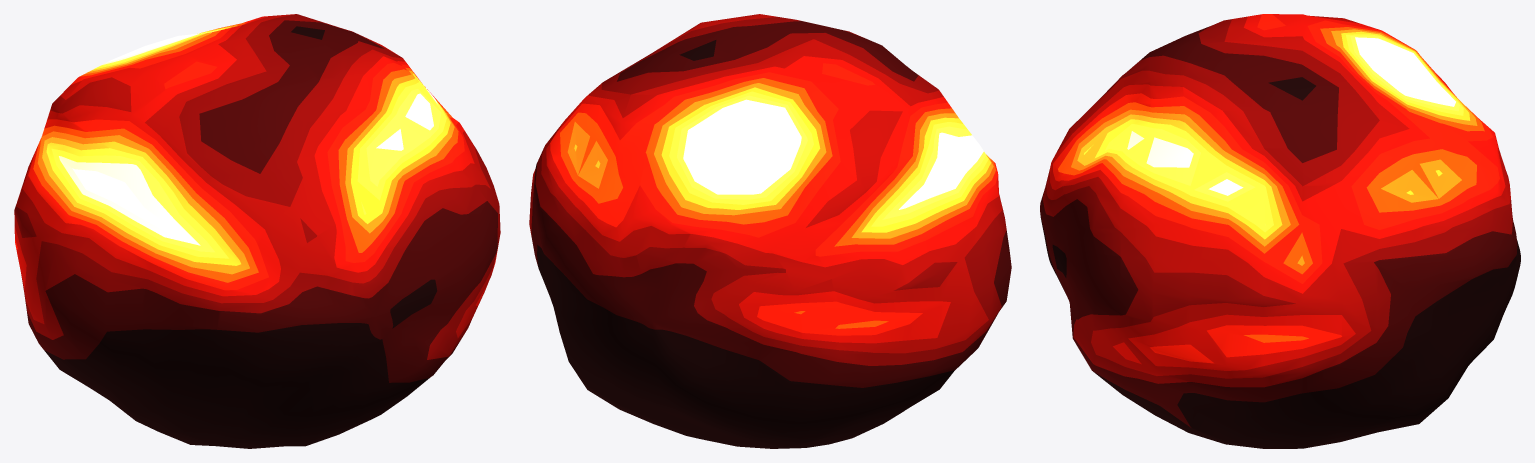
File: blob_red.glb
3 views of the same model, side by side, from view 1: azimuth 30°, elevation 25°; view 2: azimuth 150°, elevation 25°; view 3: azimuth 270°, elevation 25° (orthographic).
Parts seen in each view (by area): view 1: blob; view 2: blob; view 3: blob.
Part boxes in pixels (x1,y1,x2,y2): blob: (14, 14, 500, 448); blob: (529, 14, 1011, 448); blob: (1040, 14, 1520, 448).
Size of the model in its own units: 17.74 by 14.6 by 17.04.
